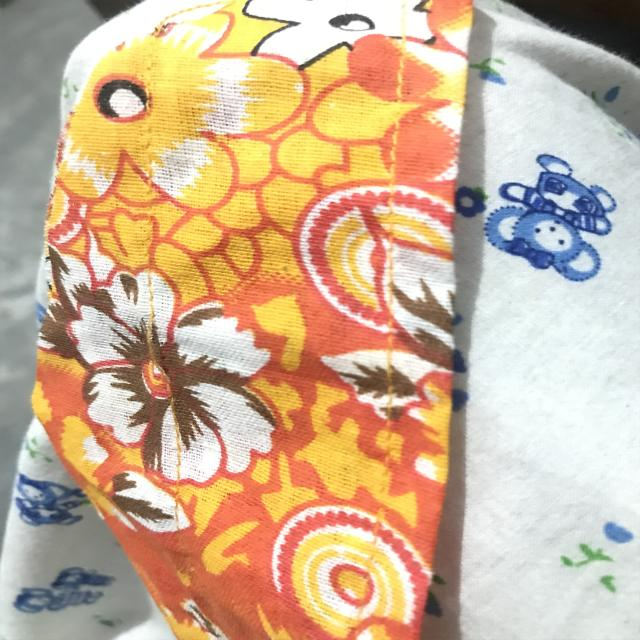skip: (129, 304, 182, 388)
